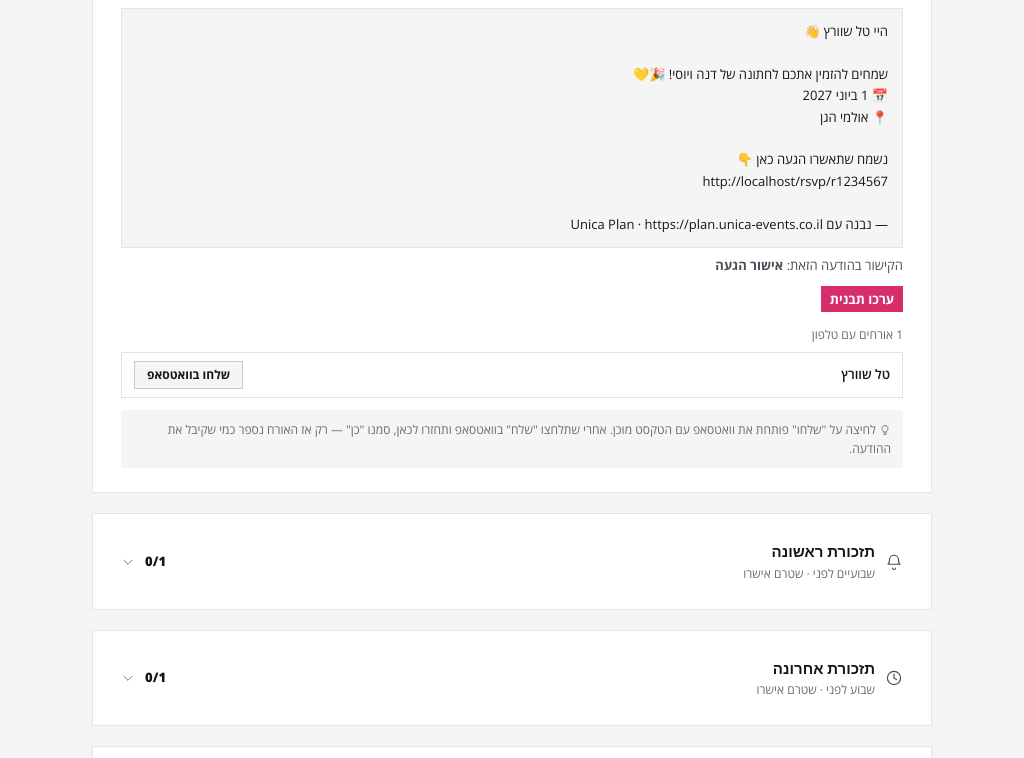
opened in WhatsApp is not sent › 'לא' writes nothing and the send button is back
(page scrolled)
What coordinates should you click on to do the following:
click the button "שלחו בוואטסאפ"
I would click on:
 (189, 375)
Its box is [134,361,243,389].
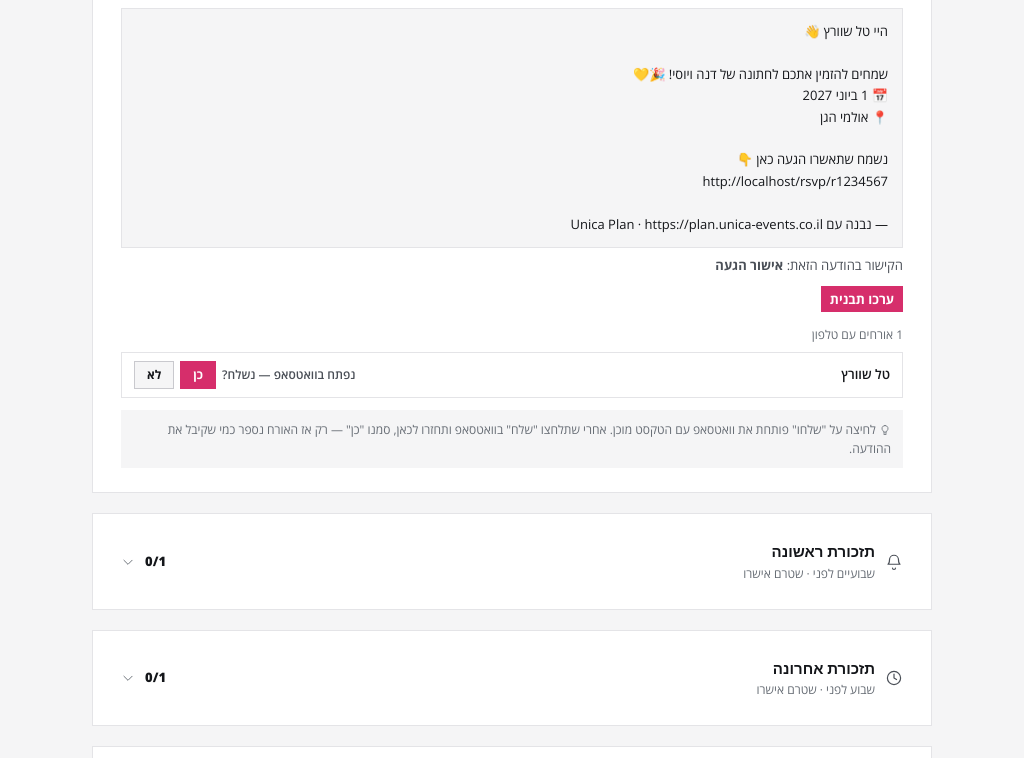
Expected: the text "נפתח בוואטסאפ — נשלח?" is shown, [222,366,355,384]
What coordinates should you click on to do the following:
click the button with aria-label "לא נשלחה לטל שוורץ"
I would click on:
 (154, 375)
Its box is [134,361,174,389].
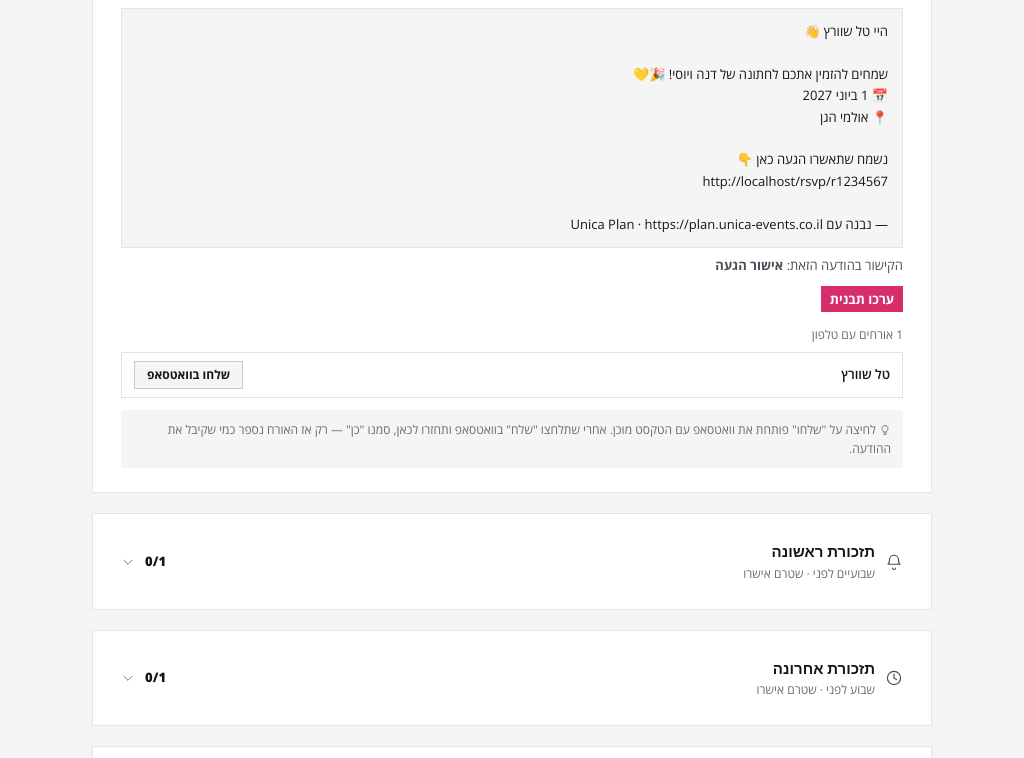
Expected: the button "שלחו בוואטסאפ" is shown, [134,361,243,389]
